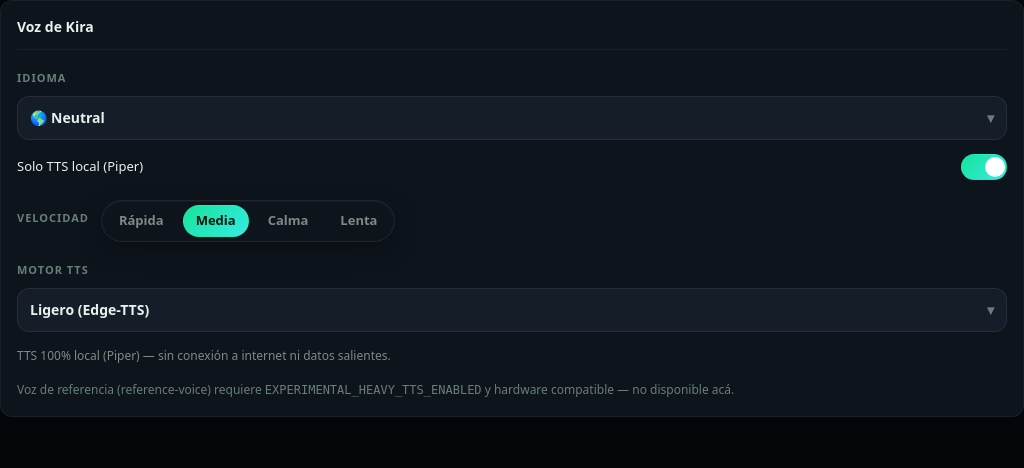
Test: VoiceCard command errors surface honestly › shows a network-error alert
Click the switch named "Solo TTS local (Piper)" at (984, 167), box [961,154,1007,180]
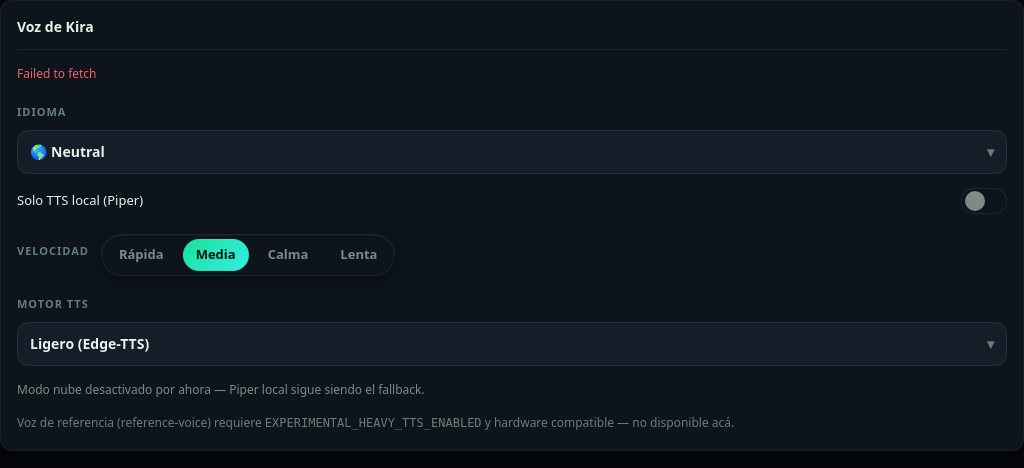
Check: the message "Failed to fetch" is shown, box [17,65,96,82]
